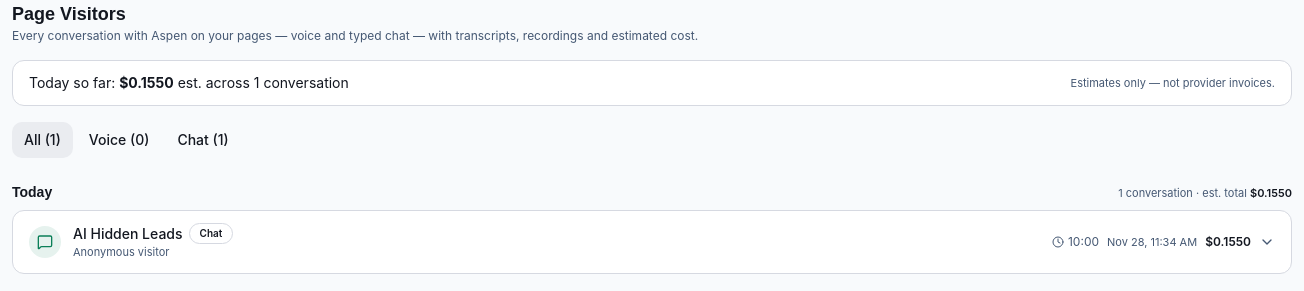
Test case: PageVisitorsView › filters by channel and shows the per-channel empty state
Expected: the text "Anonymous visitor" is shown, [73,245,169,259]
Click the button "Voice (0)" at (119, 140), box [77,122,161,158]
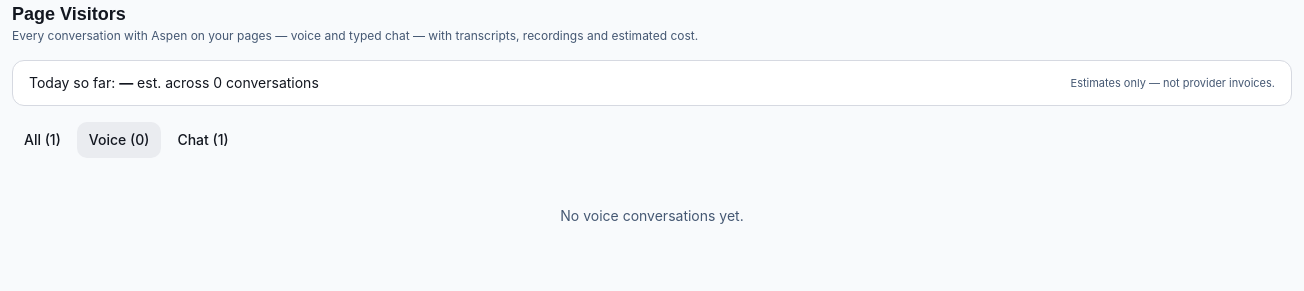
Expected: the text "No voice conversations yet." is shown, [560,207,744,224]
